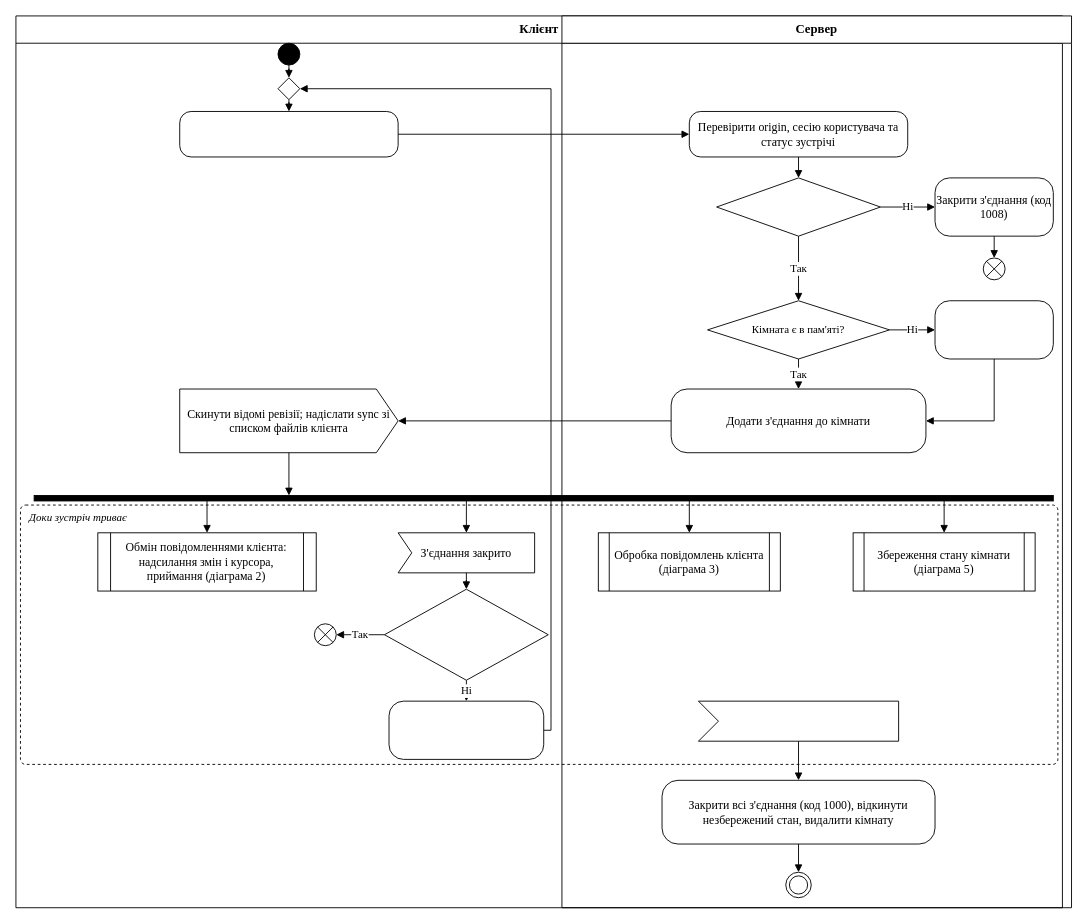
This 1087x924 diagram has some shape labels left out. Here are the shapes that lost their labels. From the top down, the centre of each, then its label:
the point at 288,134: Відкрити WebSocket-з'єднання до кімнати зустрічі
the point at 798,206: Перевірки пройдені?
the point at 993,329: Завантажити стан кімнати з бази даних
the point at 466,634: Закриття остаточне (код 1000 або 1008)?
the point at 466,729: Зачекати: затримка зростає, з випадковим розкидом
the point at 798,720: Зустріч завершена
